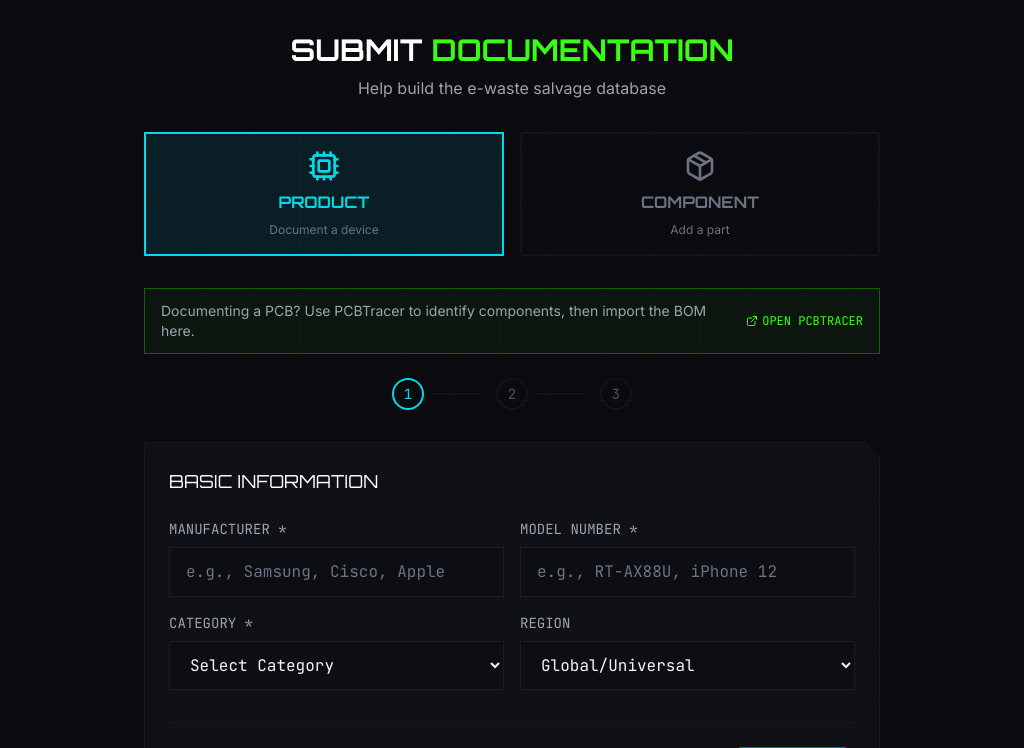
Scenario: Submit Page › component form › switches to component form when selected
The width and height of the screenshot is (1024, 748).
Click the text "COMPONENT" at (700, 202), box top-left (641, 190), bottom-right (759, 214)
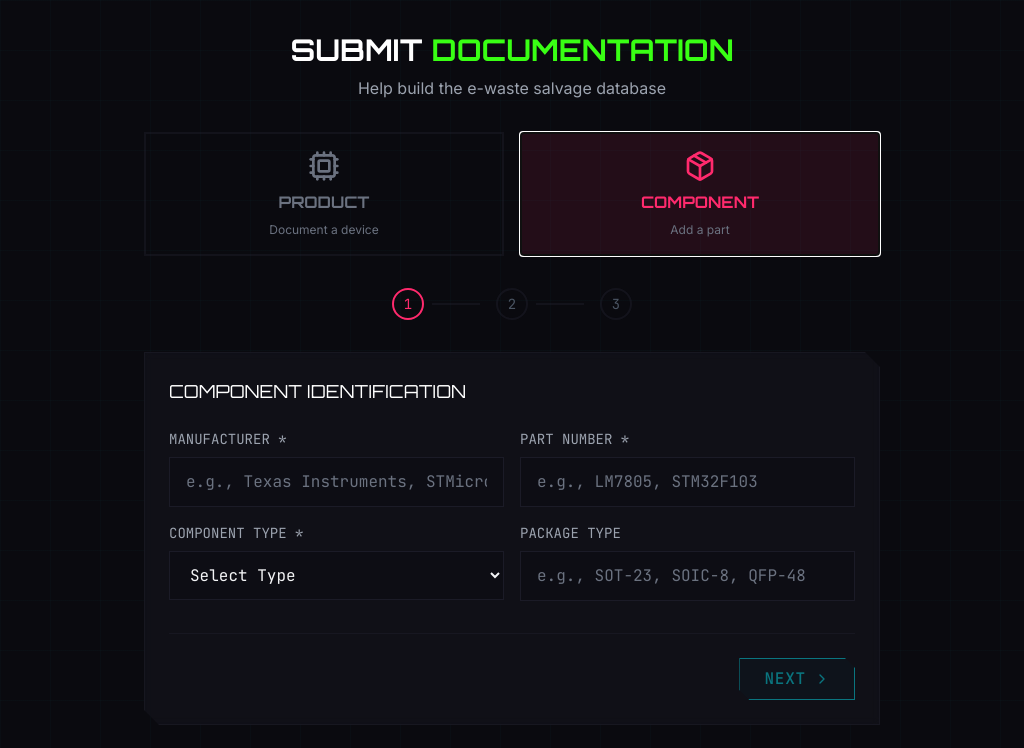
Now the heading "COMPONENT IDENTIFICATION" is shown, box top-left (169, 380), bottom-right (466, 402)
Now the field with placeholder "e.g., Texas Instruments, STMicro" is shown, box top-left (169, 457), bottom-right (504, 507)
Now the field with placeholder "e.g., LM7805, STM32F103" is shown, box top-left (520, 457), bottom-right (855, 507)
